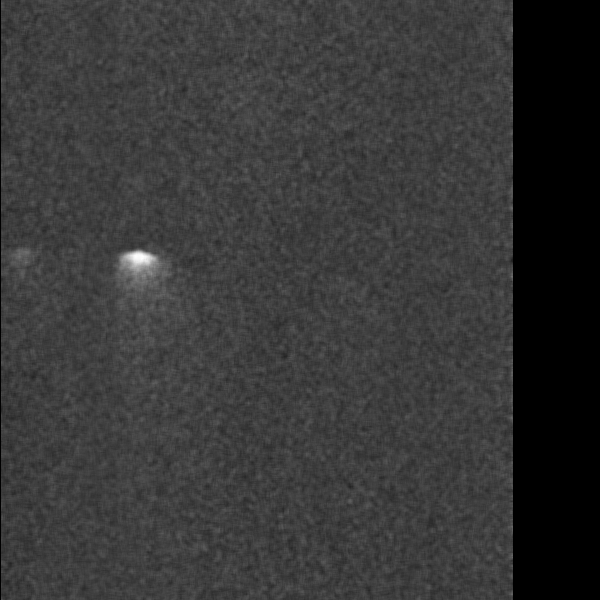spark: (108, 245, 167, 327), (4, 245, 34, 290)
